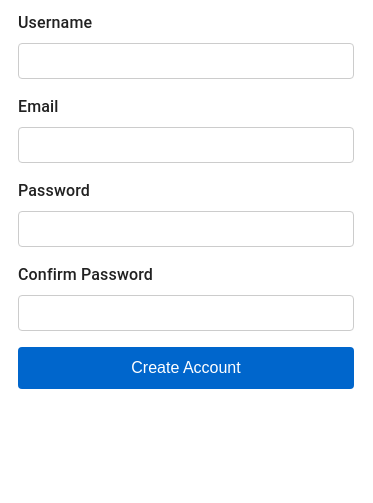
Test: RegisterForm › clears field error when user starts typing
Click the button "Create Account": (186, 368) [18,347,354,389]
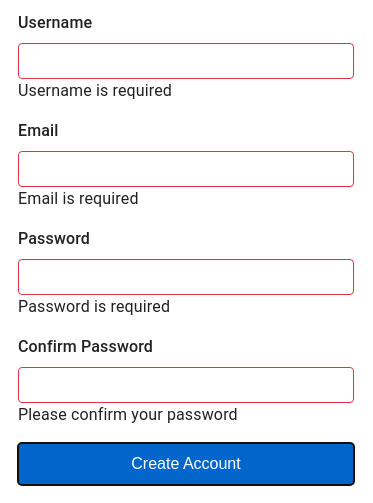
Now the text "Username is required" is shown, box [18,81,172,100]
In the field labelled "Username": (186, 61) [18,43,354,79], type "a"
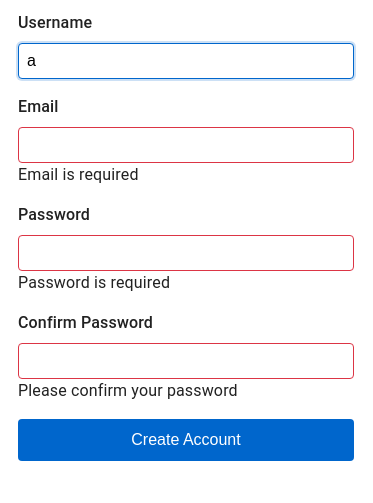
Now the text "Username is required" is gone
